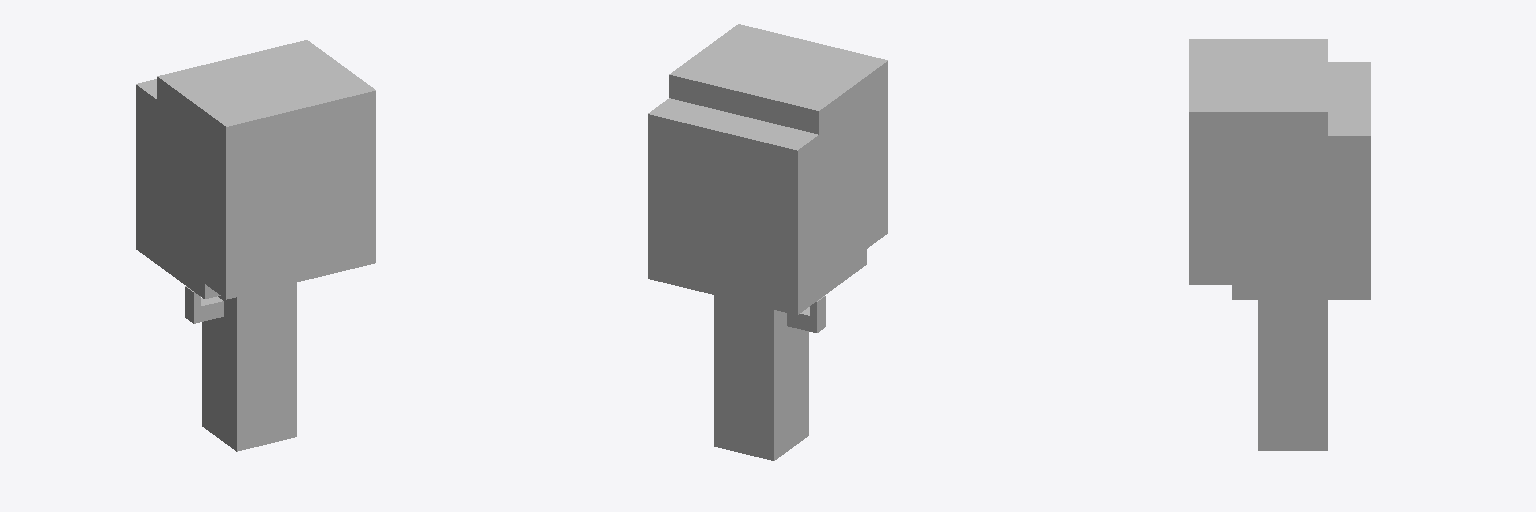
The model's file is tree3.obj.
The picture shows the model from 3 angles: view 1: azimuth 30°, elevation 25°; view 2: azimuth 150°, elevation 25°; view 3: azimuth 270°, elevation 25°; orthographic projection.
Visible parts, largest first — view 1: object 1; view 2: object 1; view 3: object 1.
Boxes of the visible parts, <box> form: object 1: <box>136,40,375,451</box>; object 1: <box>648,24,887,460</box>; object 1: <box>1189,39,1370,450</box>.
Size of the model in its own units: 2 by 4.6 by 2.1.